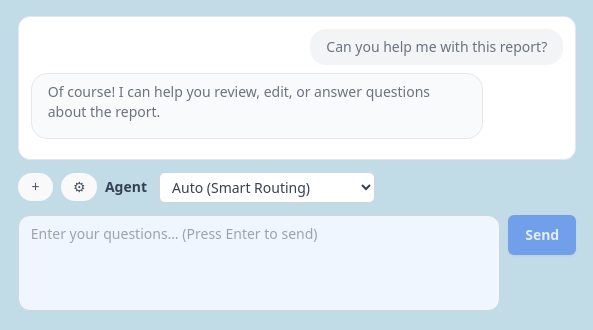
ChatPanel 组件 / ChatPanel Component › 用户输入测试 / User Input Tests › 有输入时发送按钮应启用 / should enable send button with input
The width and height of the screenshot is (593, 330).
Type "Test" into the text box with placeholder "Enter your questions… (Press Enter to send)" at (259, 262), box 18,214 -> 500,310
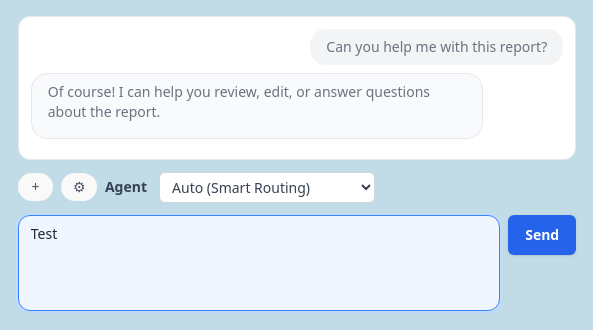
Check: the button "Send" is enabled, box 508,214 -> 576,254
